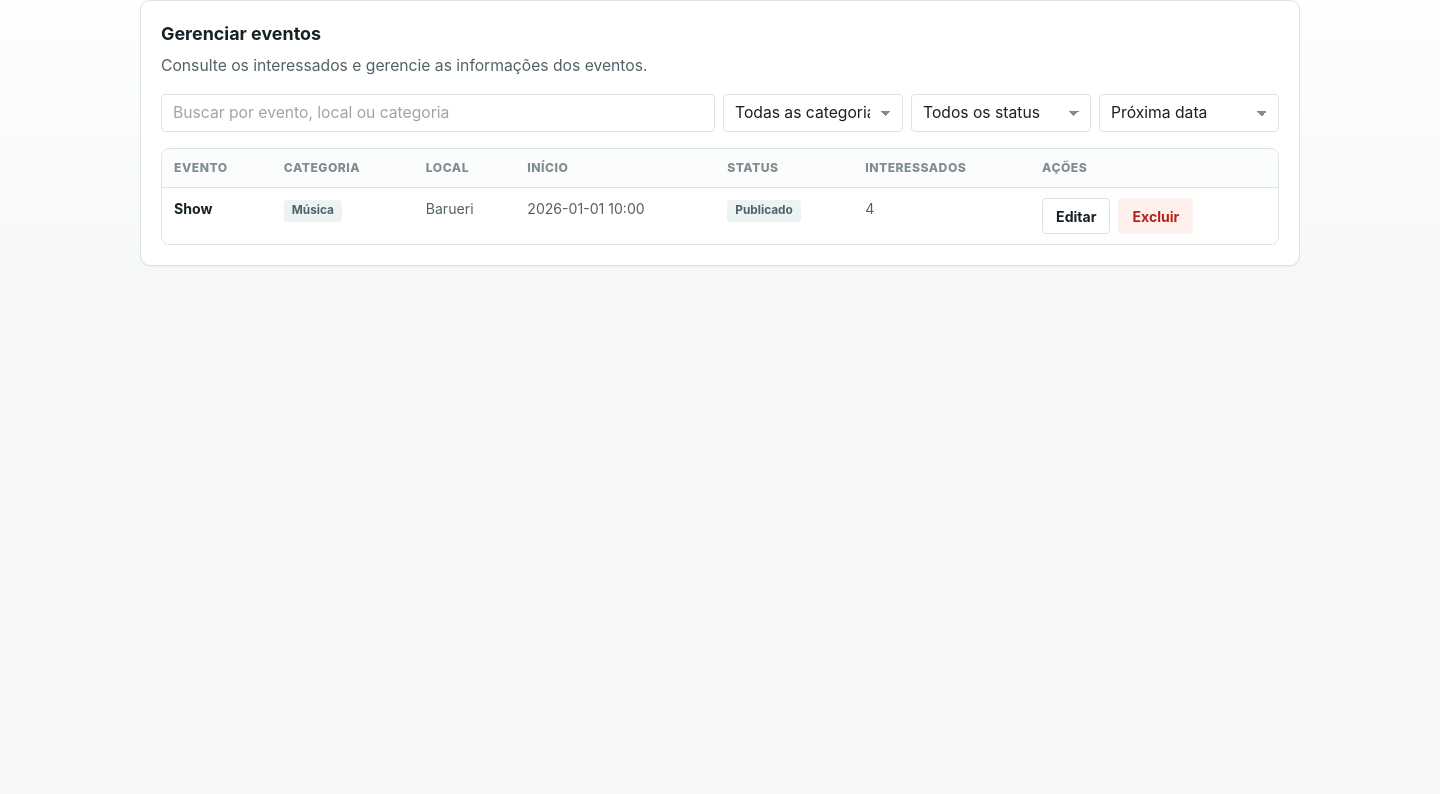
Test: reuses the existing editor, permits unchanged past dates and submits published edits for review
The image size is (1440, 794).
Click the button "Editar" at (1076, 216), box left=1042, top=198, right=1110, bottom=234
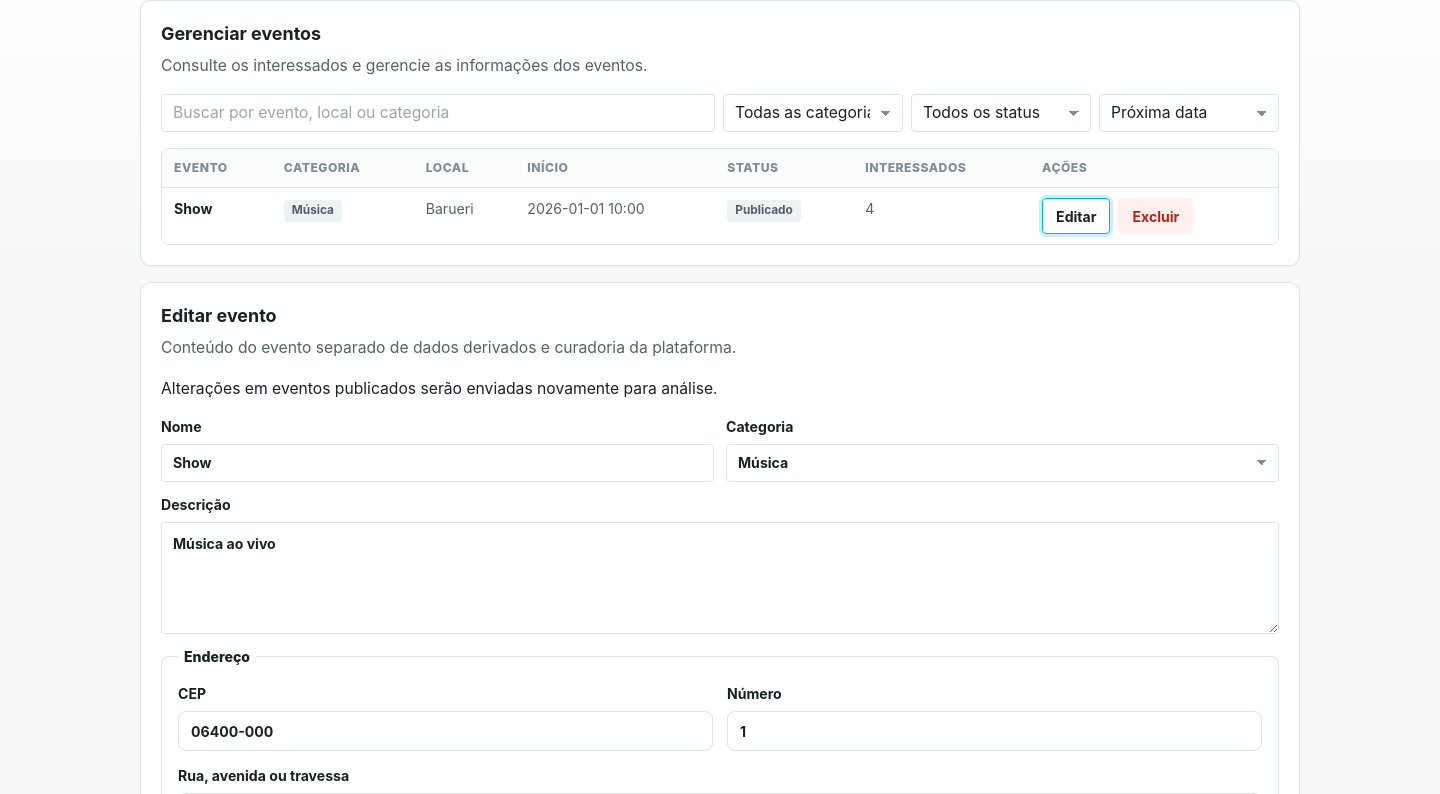
Replace the text in the field labelled "Nome" with "Show novo" at (438, 463), box left=161, top=444, right=714, bottom=482
(page scrolled)
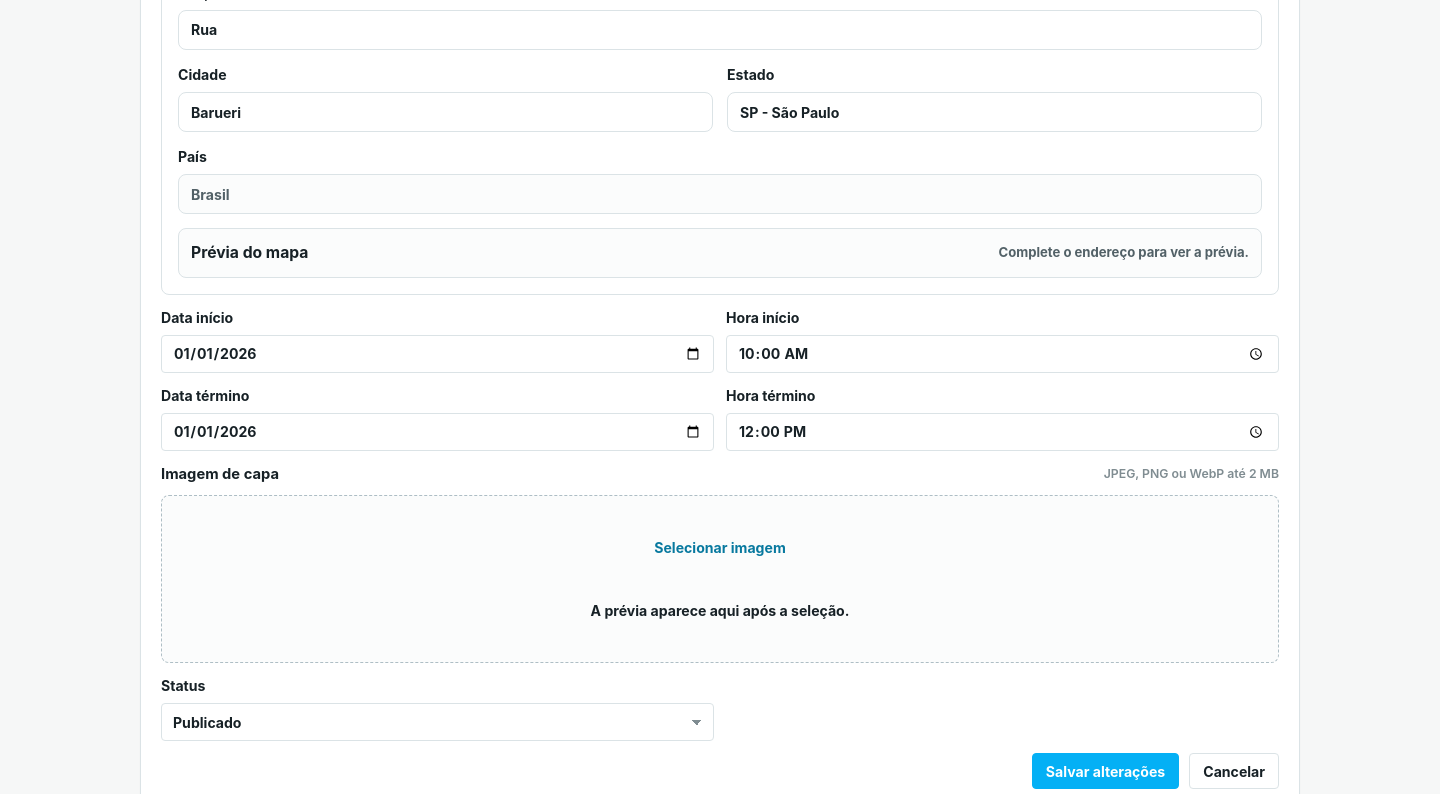
Click the button "Salvar alterações" at (1106, 771), box left=1032, top=753, right=1179, bottom=789
(page scrolled)
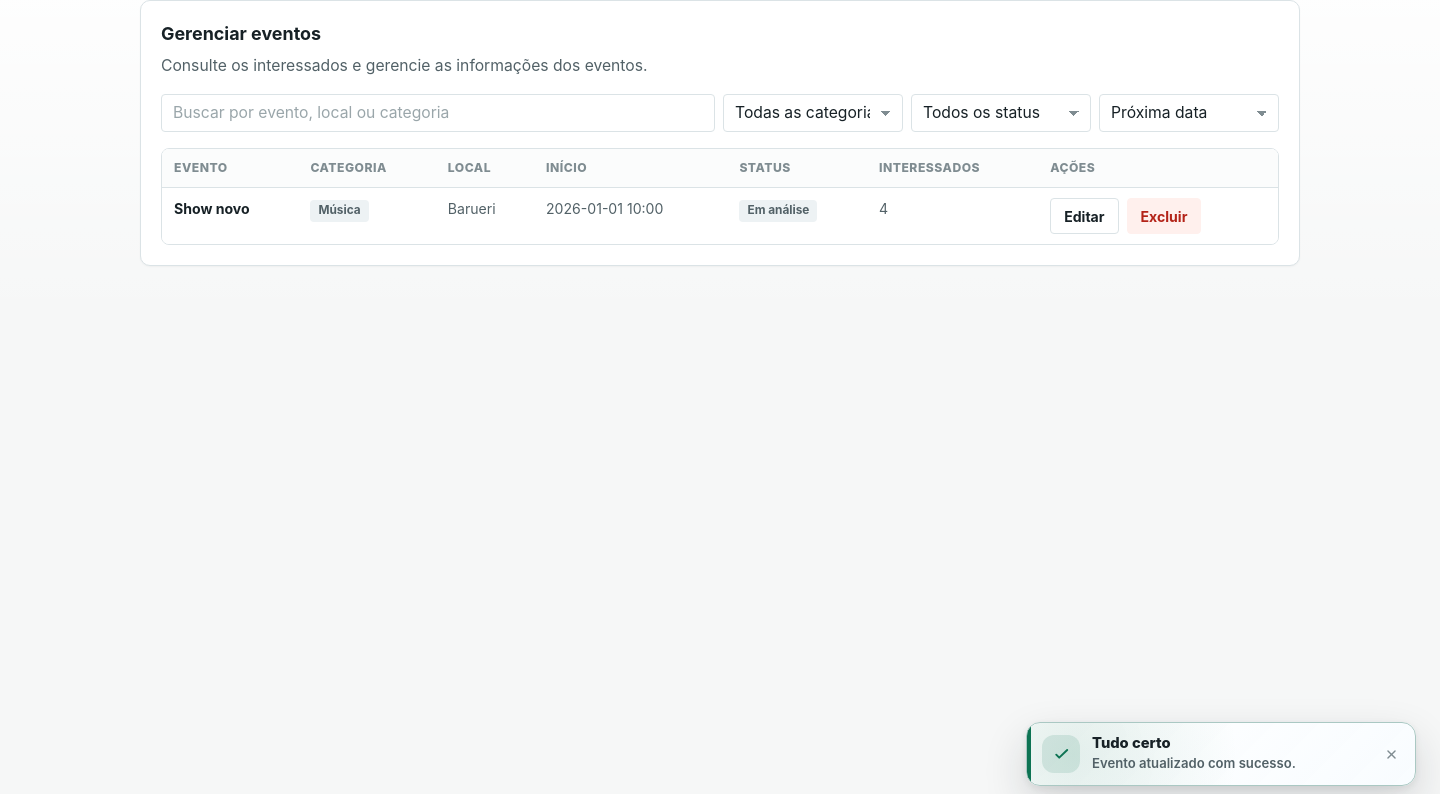
Now the text "Show novo" is shown, box left=162, top=188, right=298, bottom=244
